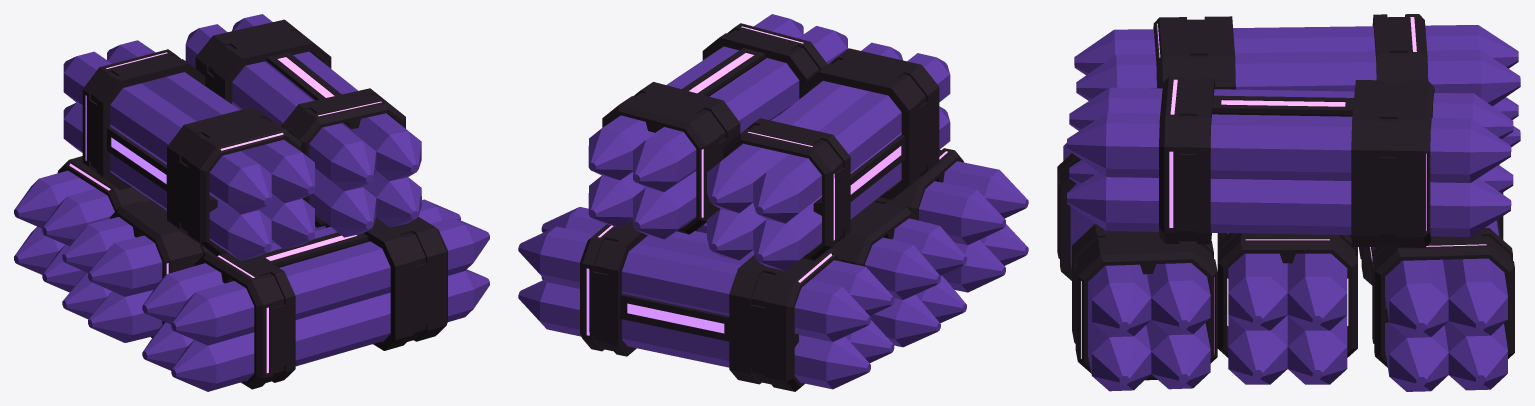
Rendered from SM_Crystalite_Bundle.fbx.
3 renders of one model, left to right at view 1: azimuth 30°, elevation 25°; view 2: azimuth 150°, elevation 25°; view 3: azimuth 270°, elevation 25°, orthographic. The views are drawn at different scales.
Parts seen in each view (by area): view 1: SM_Crystalite_Bundle; view 2: SM_Crystalite_Bundle; view 3: SM_Crystalite_Bundle.
Part boxes in pixels (x1=…): SM_Crystalite_Bundle: x1=14, y1=14, x2=489, y2=391; SM_Crystalite_Bundle: x1=518, y1=14, x2=1028, y2=391; SM_Crystalite_Bundle: x1=1057, y1=14, x2=1520, y2=391.
Bounding box in the file's own units: 20.1 × 12.23 × 20.21.
